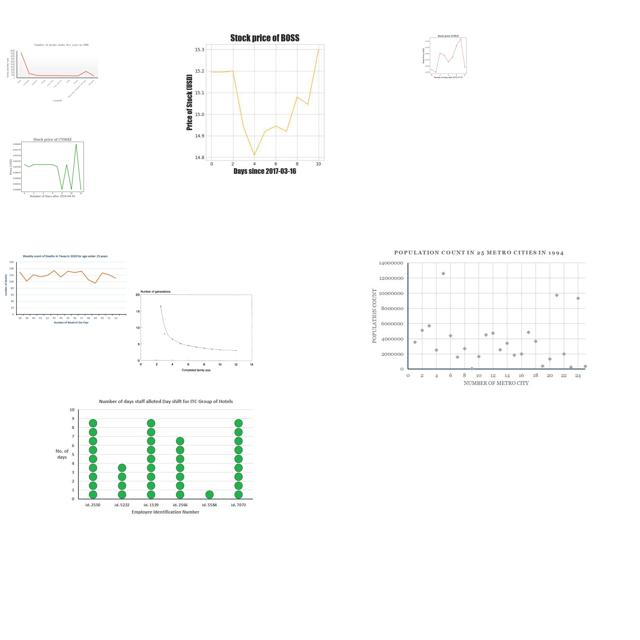Graph: (368, 247, 593, 391), (162, 26, 363, 177), (51, 397, 257, 518), (134, 288, 254, 373), (1, 252, 129, 328), (4, 42, 100, 105), (8, 134, 95, 199), (416, 32, 479, 79)
